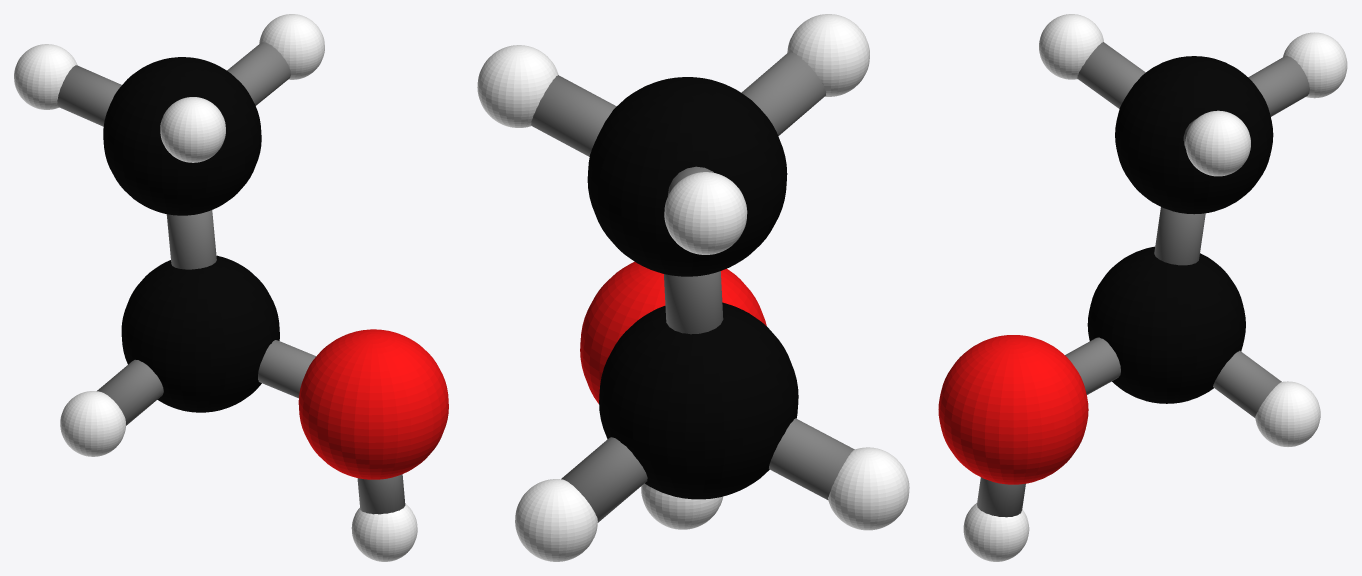
The model's file is ALCOHOL VINILICO.obj.
3 renders of one model, left to right at view 1: azimuth 30°, elevation 25°; view 2: azimuth 150°, elevation 25°; view 3: azimuth 270°, elevation 25°, orthographic. The views are drawn at different scales.
Visible parts, largest first — view 1: Carbon_ball_Sphere.001, Oxygen_ball_Sphere.002, Hydrogen_ball_Sphere, Stick_Cylinder.002_Cylinder.002, Stick_Cylinder_Cylinder, Stick_Cylinder.006_Cylinder.006, Stick_Cylinder.003_Cylinder.003, Stick_Cylinder.004_Cylinder.004, Stick_Cylinder.005_Cylinder.005; view 2: Carbon_ball_Sphere.001, Hydrogen_ball_Sphere, Oxygen_ball_Sphere.002, Stick_Cylinder.003_Cylinder.003, Stick_Cylinder.006_Cylinder.006, Stick_Cylinder.007_Cylinder.007, Stick_Cylinder.001_Cylinder.001, Stick_Cylinder.002_Cylinder.002; view 3: Carbon_ball_Sphere.001, Oxygen_ball_Sphere.002, Hydrogen_ball_Sphere, Stick_Cylinder.001_Cylinder.001, Stick_Cylinder.007_Cylinder.007, Stick_Cylinder.002_Cylinder.002, Stick_Cylinder_Cylinder, Stick_Cylinder.004_Cylinder.004, Stick_Cylinder.005_Cylinder.005.
Boxes of the visible parts, x1=… form: Carbon_ball_Sphere.001: x1=103, y1=57, x2=279, y2=412; Oxygen_ball_Sphere.002: x1=298, y1=329, x2=448, y2=479; Hydrogen_ball_Sphere: x1=14, y1=14, x2=417, y2=561; Stick_Cylinder.002_Cylinder.002: x1=166, y1=210, x2=216, y2=269; Stick_Cylinder_Cylinder: x1=57, y1=65, x2=121, y2=126; Stick_Cylinder.006_Cylinder.006: x1=97, y1=359, x2=163, y2=425; Stick_Cylinder.003_Cylinder.003: x1=227, y1=42, x2=290, y2=105; Stick_Cylinder.004_Cylinder.004: x1=258, y1=340, x2=315, y2=398; Stick_Cylinder.005_Cylinder.005: x1=357, y1=474, x2=405, y2=514; Carbon_ball_Sphere.001: x1=587, y1=77, x2=798, y2=499; Hydrogen_ball_Sphere: x1=477, y1=14, x2=909, y2=561; Oxygen_ball_Sphere.002: x1=580, y1=261, x2=766, y2=403; Stick_Cylinder.003_Cylinder.003: x1=531, y1=75, x2=616, y2=156; Stick_Cylinder.006_Cylinder.006: x1=769, y1=418, x2=854, y2=499; Stick_Cylinder.007_Cylinder.007: x1=561, y1=437, x2=647, y2=522; Stick_Cylinder.001_Cylinder.001: x1=741, y1=52, x2=826, y2=135; Stick_Cylinder.002_Cylinder.002: x1=664, y1=271, x2=723, y2=334; Carbon_ball_Sphere.001: x1=1087, y1=56, x2=1273, y2=403; Oxygen_ball_Sphere.002: x1=938, y1=335, x2=1088, y2=484; Hydrogen_ball_Sphere: x1=963, y1=14, x2=1347, y2=561; Stick_Cylinder.001_Cylinder.001: x1=1077, y1=42, x2=1145, y2=108; Stick_Cylinder.007_Cylinder.007: x1=1213, y1=350, x2=1281, y2=417; Stick_Cylinder.002_Cylinder.002: x1=1154, y1=207, x2=1205, y2=265; Stick_Cylinder_Cylinder: x1=1248, y1=56, x2=1309, y2=116; Stick_Cylinder.004_Cylinder.004: x1=1065, y1=337, x2=1120, y2=394; Stick_Cylinder.005_Cylinder.005: x1=977, y1=477, x2=1025, y2=517.
Size of the model in its own units: 3.13 by 4.51 by 3.58.
